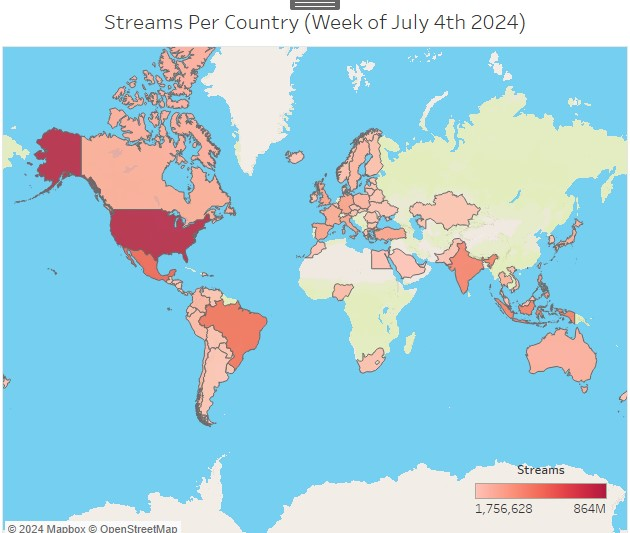

The dashboard page shown, as its layout file describes it:
{"tool":"tableau","page":{"name":"Dashboard 1","canvas":[650,860],"ordinal":0},"visuals":[{"type":"worksheet","title":"Streams Per Country (Week of July 4th 2024)","mark":"Automatic","box":[8,12.3,634,835.4]},{"type":"legend","title":"Streams Per Country (Week of July 4th 2024)","param":"[federated.1nnzsfd1ljyuz1188zj0a0zqo6dq].[sum:Streams:qk]","box":[481,721.8,140,112.1]}]}

Visuals, with their boxes on the page's 650x860 design canvas (x1, y1, x2, y2). These are canvas units, not pixel positions in the 630x533 screenshot, which may show the page scaled, cropped or inside an application window:
"Streams Per Country (Week of July 4th 2024)" worksheet: box(8, 12, 642, 848)
"Streams Per Country (Week of July 4th 2024)" legend: box(481, 722, 621, 834)
